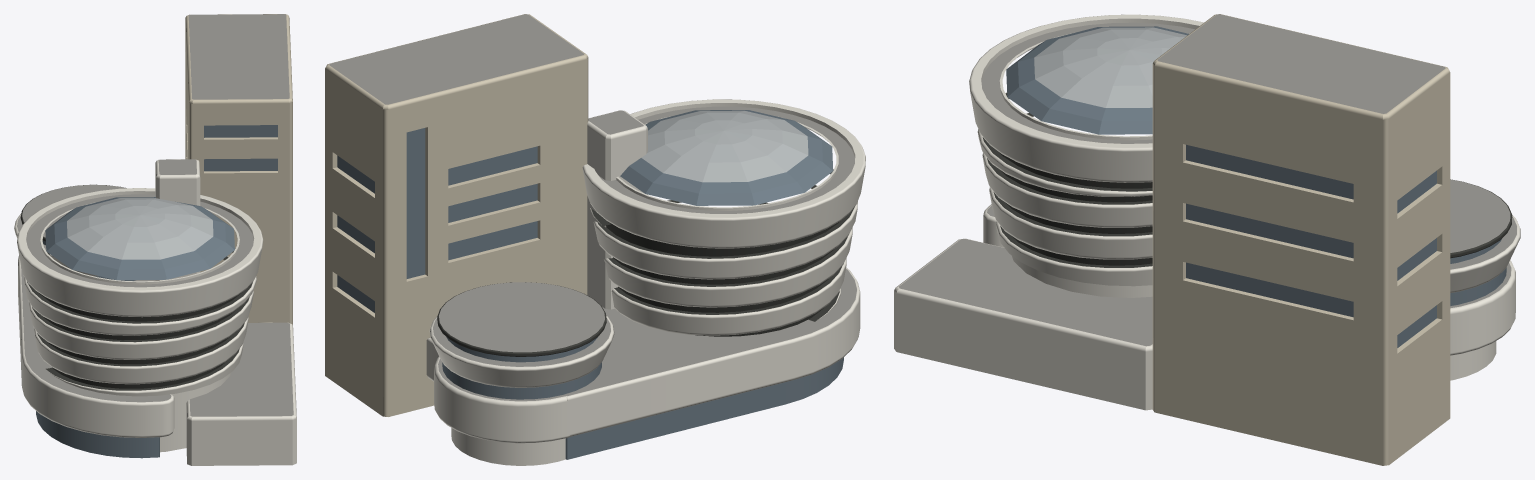
Rendered from detail.glb.
3 renders of one model, left to right at view 1: azimuth 30°, elevation 25°; view 2: azimuth 150°, elevation 25°; view 3: azimuth 270°, elevation 25°, orthographic. The views are drawn at different scales.
Visible parts, largest first — view 1: guggenheim-museum; view 2: guggenheim-museum; view 3: guggenheim-museum.
Boxes of the visible parts, left/top/right/bottom form: guggenheim-museum: left=14, top=14, right=296, bottom=465; guggenheim-museum: left=325, top=14, right=865, bottom=465; guggenheim-museum: left=894, top=14, right=1520, bottom=465.
Size of the model in its own units: 57.21 by 41.6 by 67.49.
